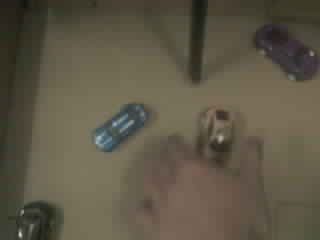Car: (255, 24, 319, 80), (94, 103, 148, 151), (198, 107, 233, 164), (13, 201, 54, 239)
